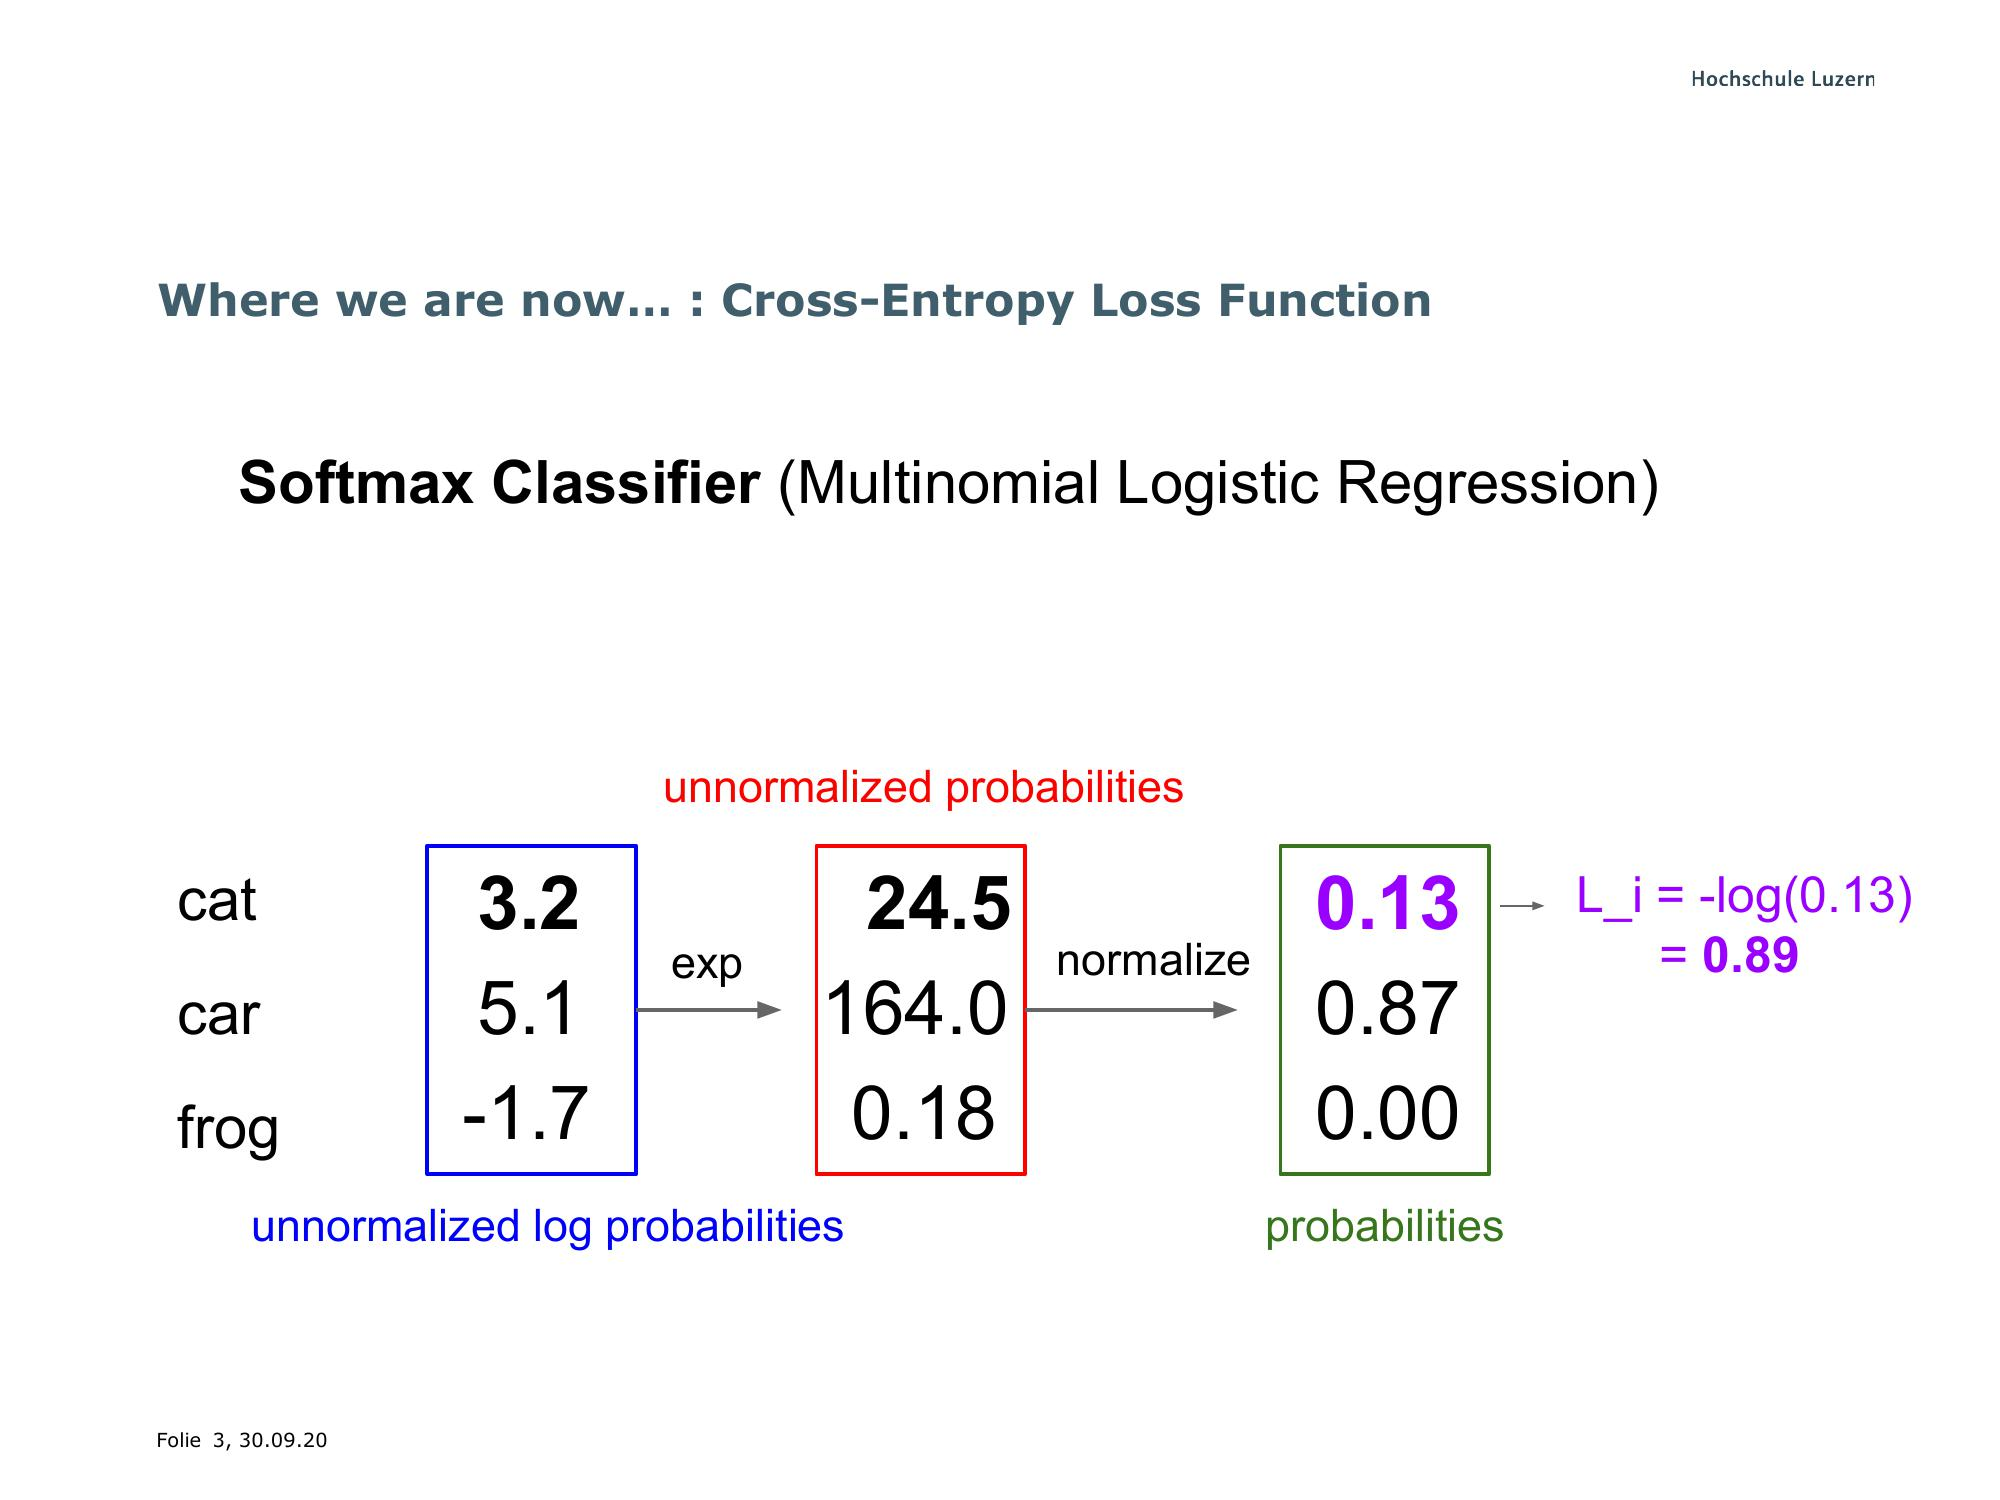Title: (150, 257, 1441, 343)
